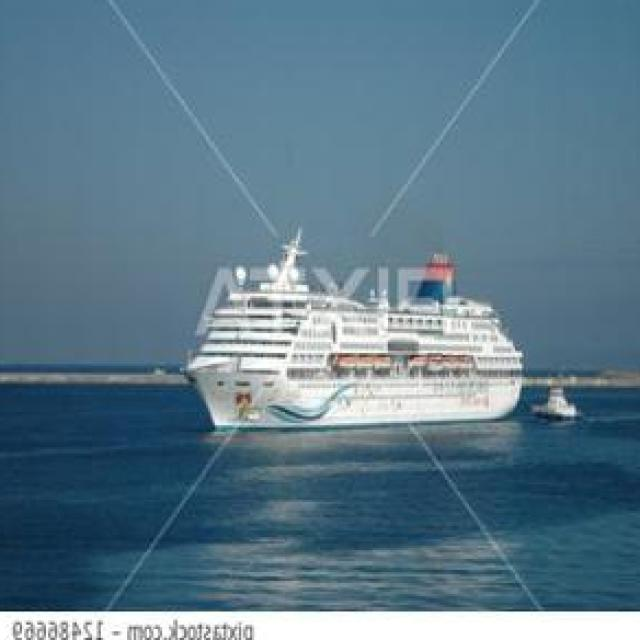houseboat: (536, 376, 582, 421)
passenger ship: (199, 249, 515, 434)
